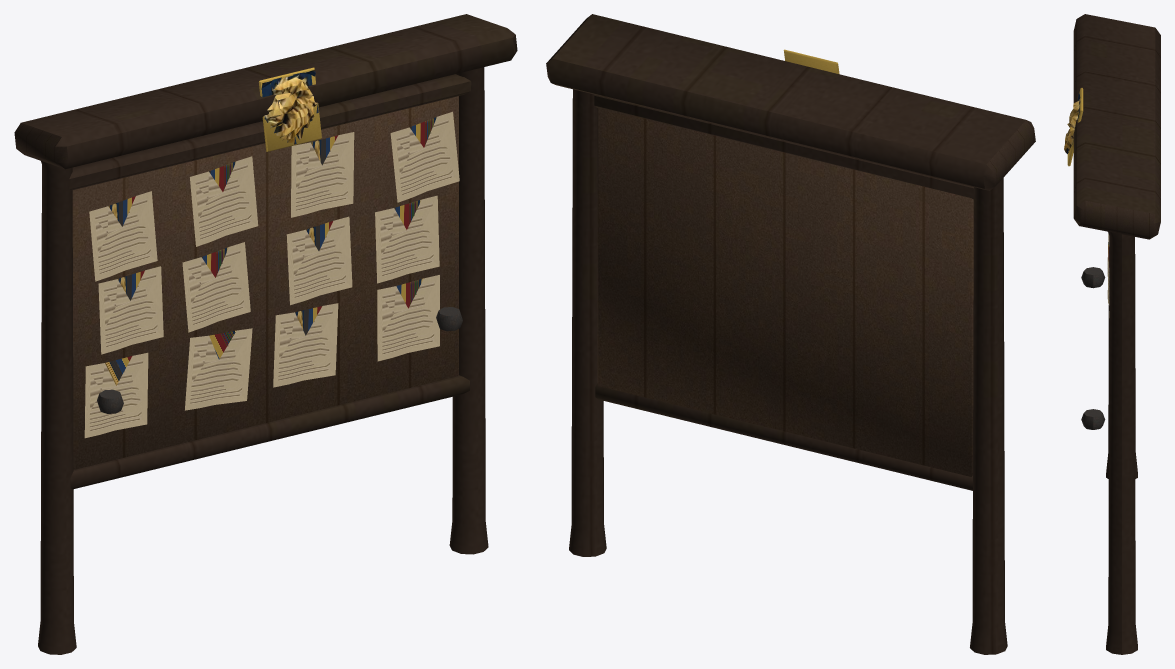
File: quest_board_lod1.glb
3 renders of one model, left to right at view 1: azimuth 30°, elevation 25°; view 2: azimuth 150°, elevation 25°; view 3: azimuth 270°, elevation 25°, orthographic. The views are drawn at different scales.
Visible parts, largest first — view 1: quest_board; view 2: quest_board; view 3: quest_board.
Part boxes in pixels (bbox=[...]): quest_board: bbox=[14, 14, 517, 654]; quest_board: bbox=[546, 14, 1035, 654]; quest_board: bbox=[1064, 14, 1160, 654].
Size of the model in its own units: 1.9 by 2.13 by 0.4042.
1 material, 1 textured.
